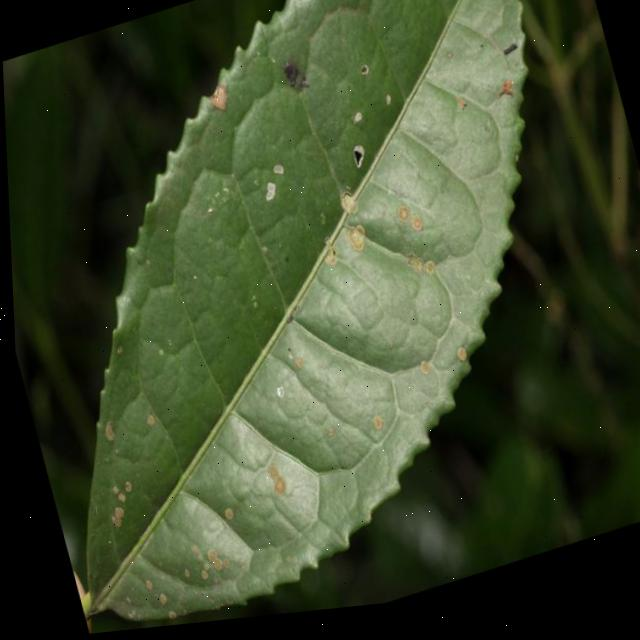Tea algae leaf spot: (8, 15, 535, 617)
